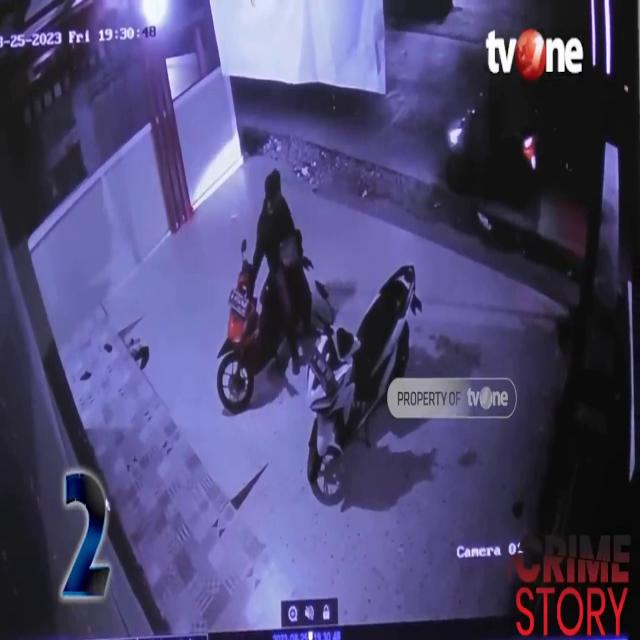pencurian: (220, 167, 306, 362)
